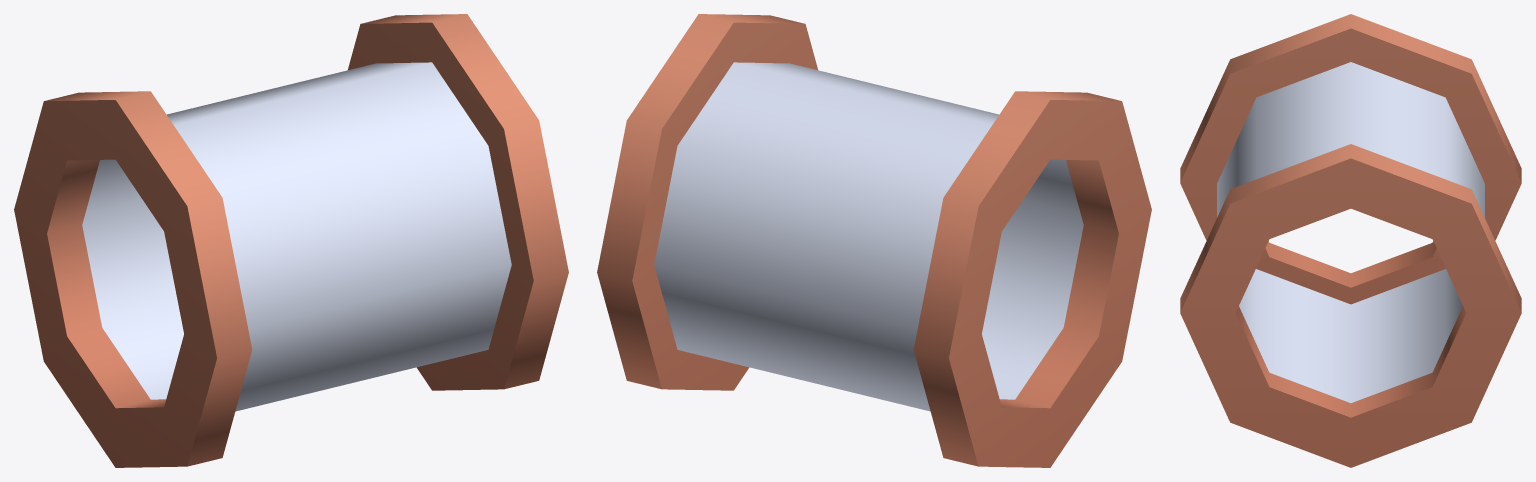
File: pipe-glass-large.obj
3 renders of one model, left to right at view 1: azimuth 30°, elevation 25°; view 2: azimuth 150°, elevation 25°; view 3: azimuth 270°, elevation 25°, orthographic. The views are drawn at different scales.
Visible parts, largest first — view 1: pipe-glass-large; view 2: pipe-glass-large; view 3: pipe-glass-large.
Boxes of the visible parts, left/top/right/bottom form: pipe-glass-large: left=14, top=14, right=568, bottom=467; pipe-glass-large: left=597, top=14, right=1151, bottom=467; pipe-glass-large: left=1180, top=14, right=1521, bottom=467.
Bounding box in the file's own units: 1 × 1 × 1.
